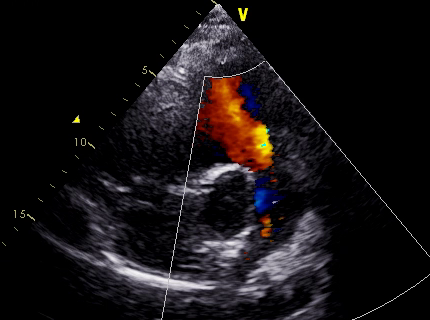PR: (195, 77, 289, 178)
